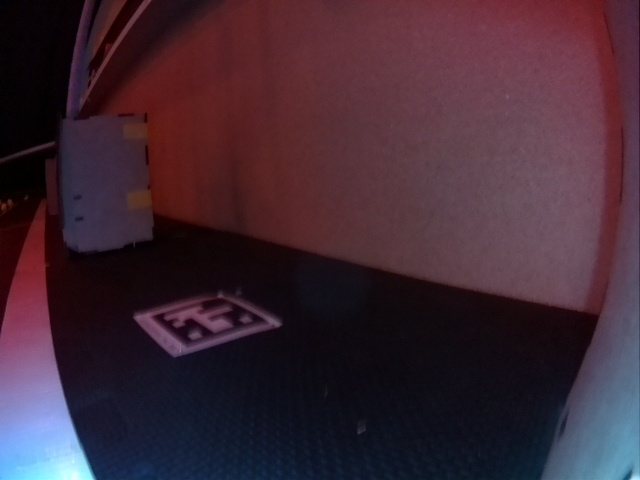QR code: (136, 292, 269, 357)
